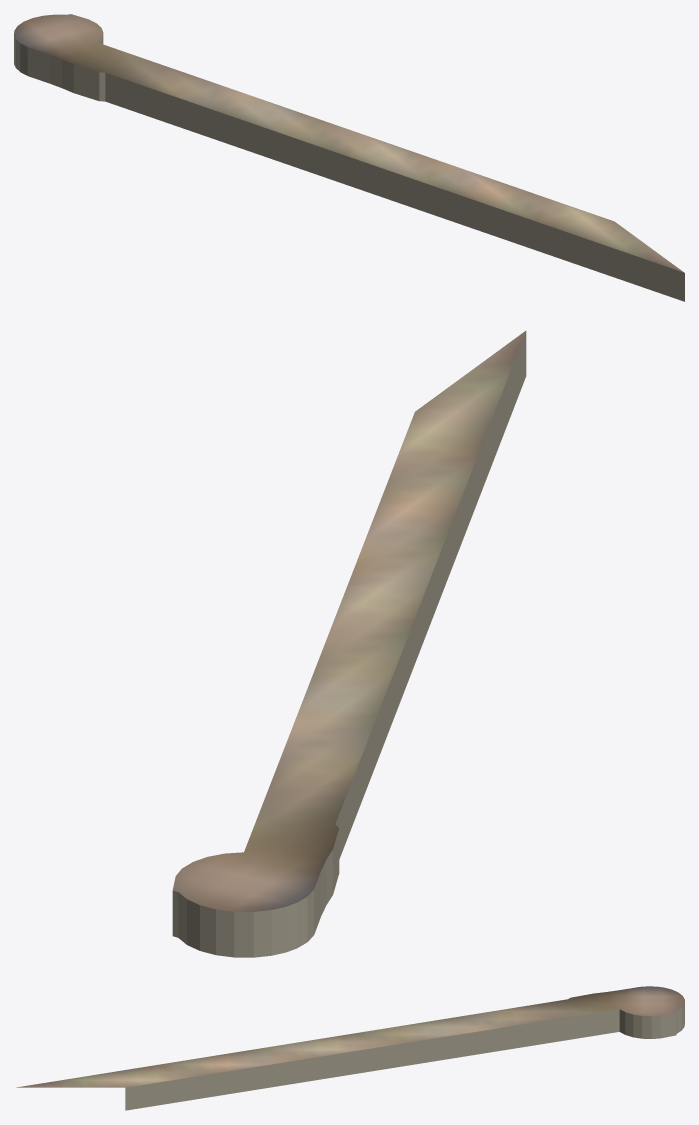
The model's file is terrain.glb.
The picture shows the model from 3 angles, top to bottom: view 1: azimuth 30°, elevation 25°; view 2: azimuth 150°, elevation 25°; view 3: azimuth 270°, elevation 25°; orthographic projection. The views are drawn at different scales.
Parts seen in each view (by area): view 1: T_W4_N2_terrain; view 2: T_W4_N2_terrain; view 3: T_W4_N2_terrain.
Part boxes in pixels (bbox=[...]): T_W4_N2_terrain: bbox=[14, 14, 684, 301]; T_W4_N2_terrain: bbox=[172, 330, 526, 957]; T_W4_N2_terrain: bbox=[16, 986, 684, 1110].
Size of the model in its own units: 66.57 by 7 by 186.
